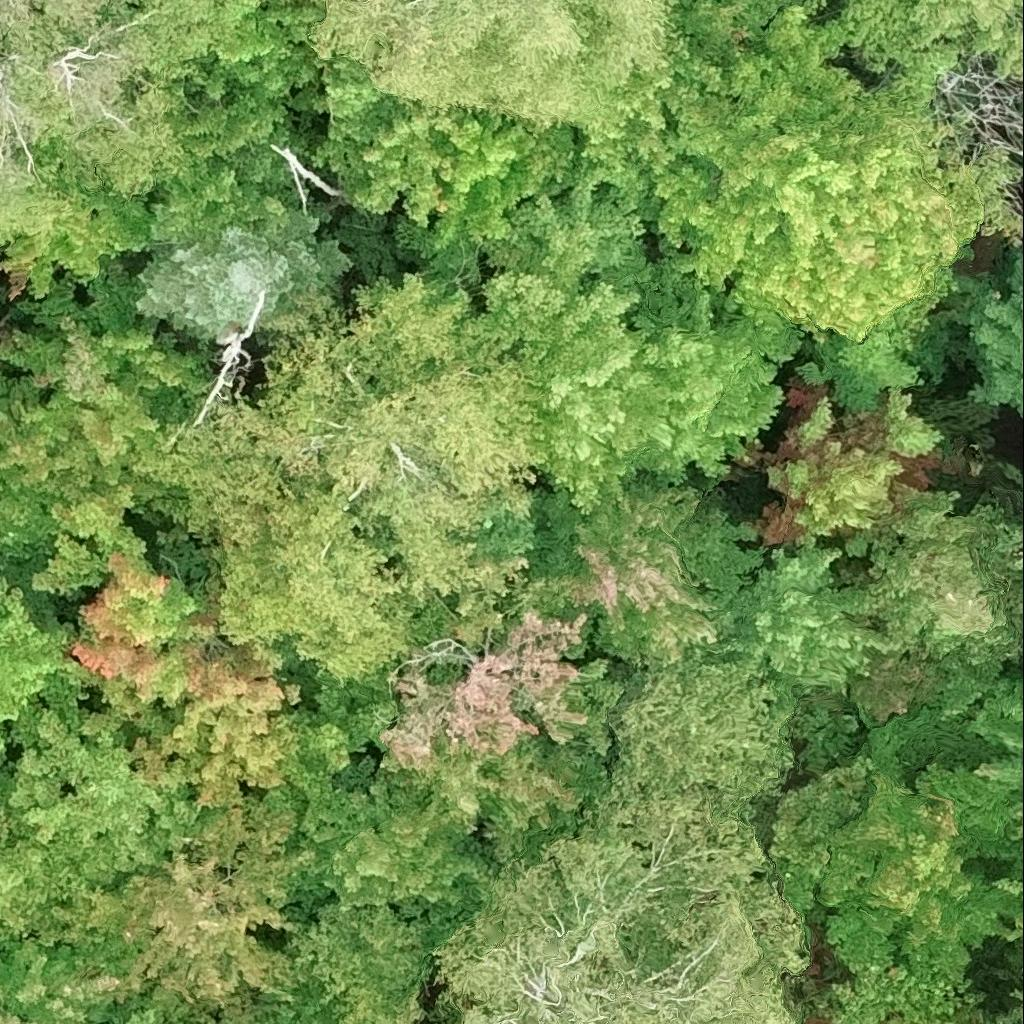crown: (657, 6, 1023, 416), (178, 274, 536, 680), (427, 785, 808, 1023), (456, 182, 675, 514), (311, 52, 578, 322), (0, 259, 214, 591), (70, 550, 304, 826), (374, 609, 588, 865), (311, 0, 675, 128), (509, 487, 765, 668), (814, 766, 1023, 986), (108, 799, 311, 1014), (0, 19, 188, 241), (0, 710, 200, 888), (636, 263, 784, 488), (562, 13, 722, 216), (845, 490, 1023, 665), (610, 659, 792, 818), (134, 213, 355, 341), (725, 537, 898, 697), (297, 780, 488, 921), (0, 140, 162, 299), (153, 86, 300, 249), (278, 901, 460, 1023), (0, 0, 222, 92), (843, 0, 1023, 112), (0, 575, 88, 757), (189, 0, 328, 114), (0, 841, 94, 956), (0, 940, 129, 1023), (674, 0, 800, 84), (968, 673, 1023, 842), (941, 1019, 984, 1023), (809, 0, 826, 8)
